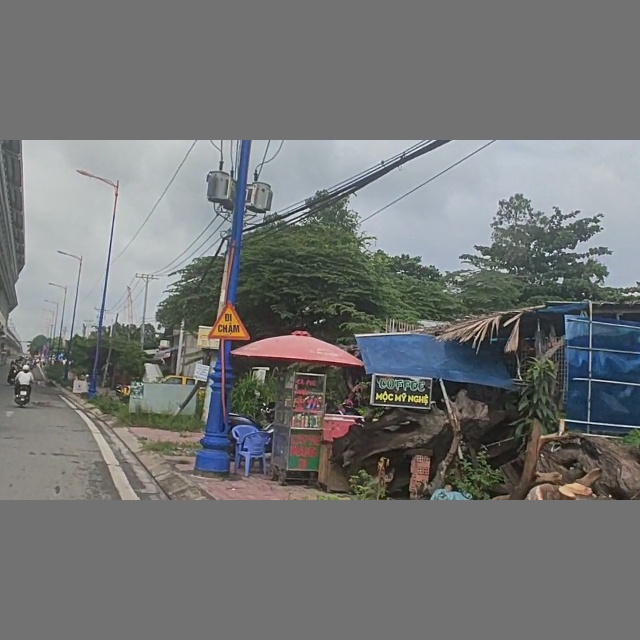W.245a: (208, 300, 251, 341)
